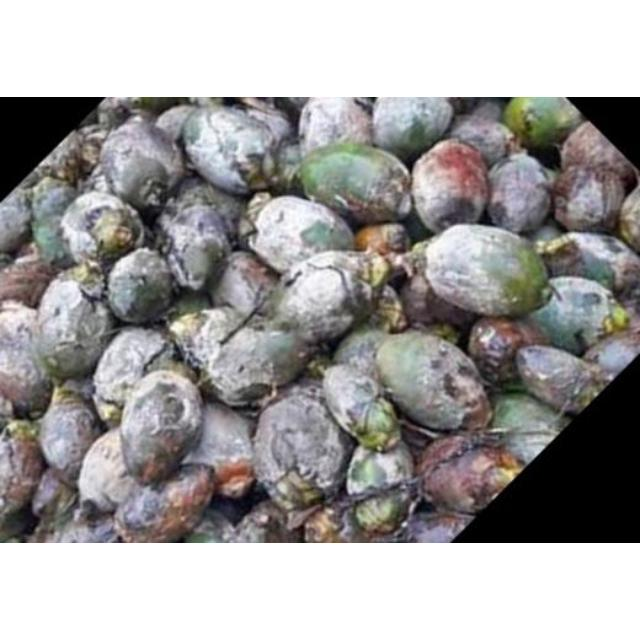damaged: (250, 383, 358, 509), (374, 331, 491, 434), (423, 224, 551, 318), (198, 322, 308, 406), (180, 106, 278, 196), (250, 196, 358, 276), (34, 278, 116, 382), (96, 118, 184, 212), (92, 326, 175, 416), (322, 362, 402, 452), (157, 203, 236, 293), (36, 384, 102, 482), (105, 248, 173, 324), (296, 97, 376, 155), (210, 252, 276, 316), (332, 326, 394, 378)
